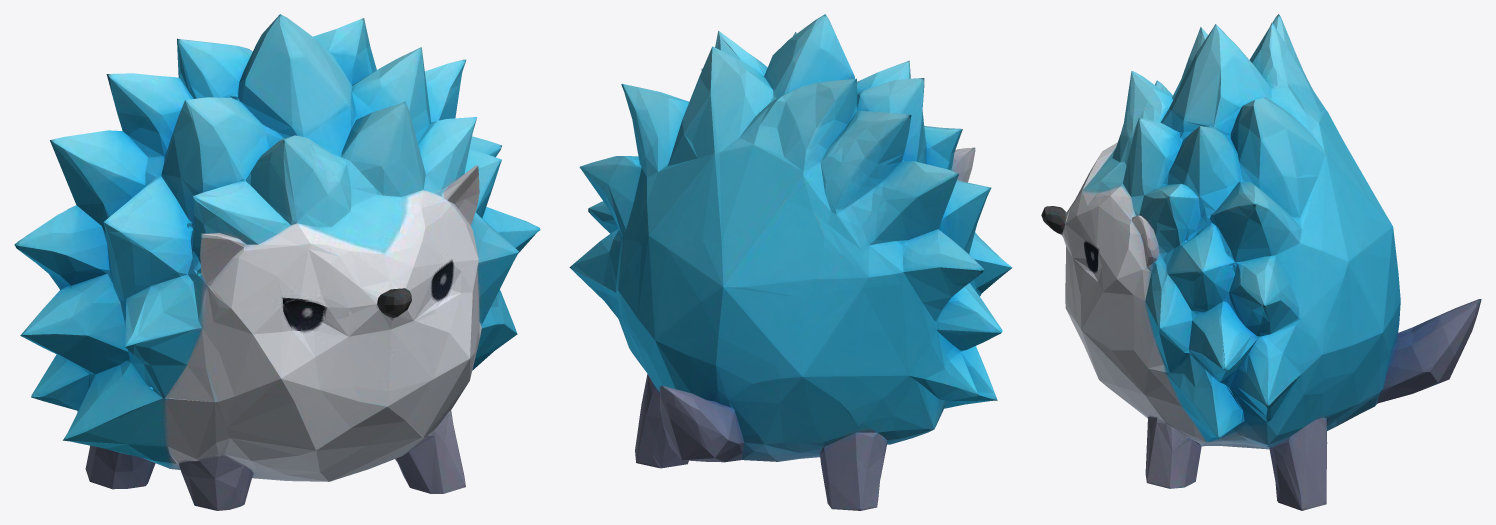
File: givre_monstre_herisson.glb
3 renders of one model, left to right at view 1: azimuth 30°, elevation 25°; view 2: azimuth 150°, elevation 25°; view 3: azimuth 270°, elevation 25°, orthographic. The views are drawn at different scales.
Visible parts, largest first — view 1: geometry_0; view 2: geometry_0; view 3: geometry_0.
Boxes of the visible parts, x1,y1,x2,y2 form: geometry_0: (14, 14, 540, 510); geometry_0: (569, 14, 1012, 510); geometry_0: (1041, 14, 1481, 510).
Bounding box in the file's own units: 1 × 0.967 × 0.9199.
1 material, 1 textured.
